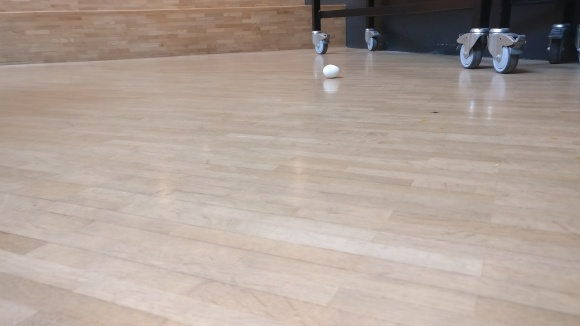egg: (322, 64, 340, 78)
